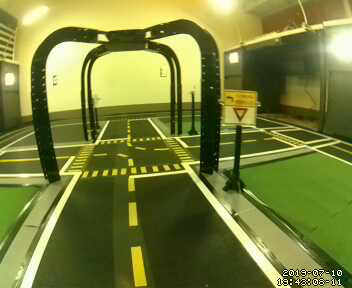Turn Yield: (222, 89, 257, 128)
